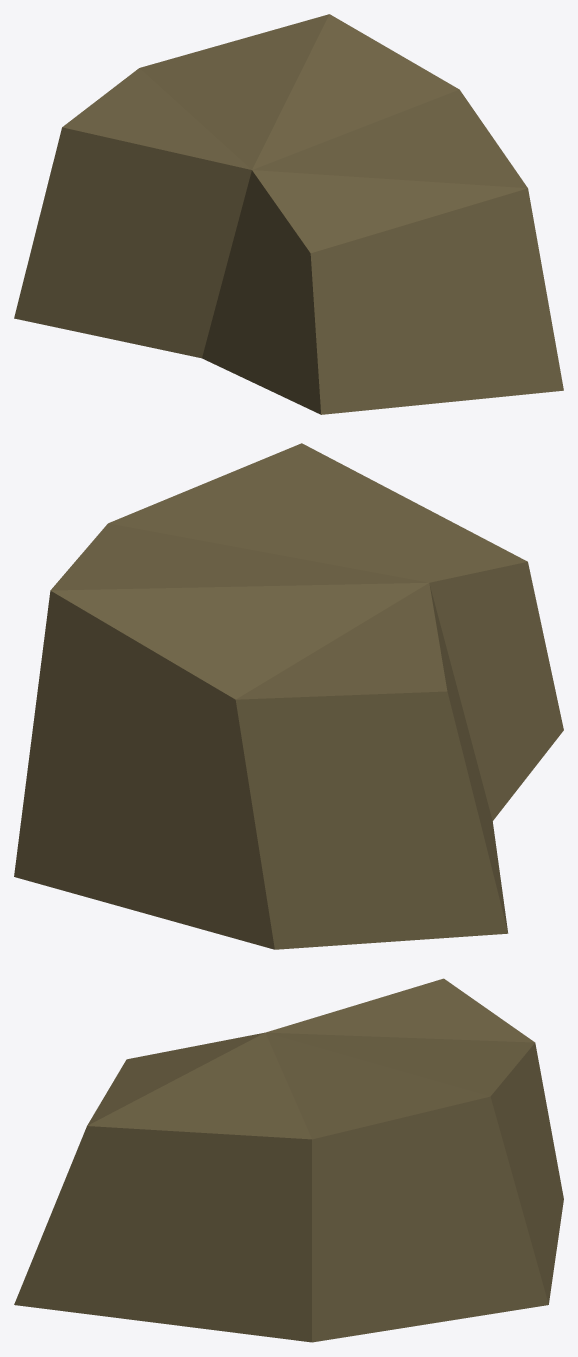
The model's file is FlatRock-C01.fbx.
The picture shows the model from 3 angles, top to bottom: view 1: azimuth 30°, elevation 25°; view 2: azimuth 150°, elevation 25°; view 3: azimuth 270°, elevation 25°; orthographic projection. The views are drawn at different scales.
Parts seen in each view (by area): view 1: FlatRock-C01; view 2: FlatRock-C01; view 3: FlatRock-C01.
Part boxes in pixels (x1=…): FlatRock-C01: x1=14, y1=14, x2=563, y2=414; FlatRock-C01: x1=14, y1=443, x2=563, y2=949; FlatRock-C01: x1=14, y1=978, x2=563, y2=1342.
Size of the model in its own units: 116 by 54.84 by 131.
